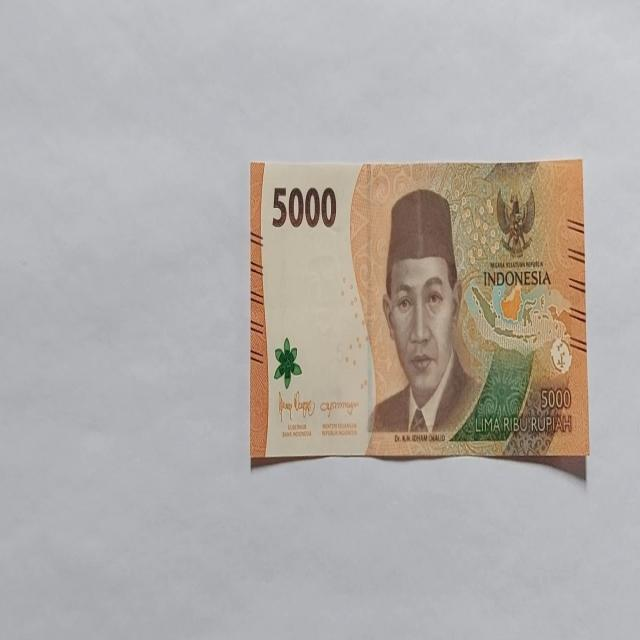lima ribu rupiah: (249, 158, 589, 474), (366, 187, 482, 441)
